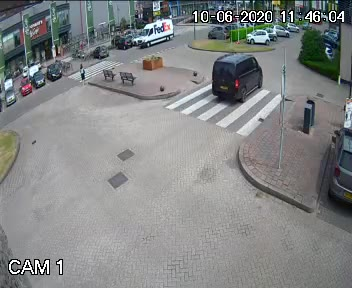car: (205, 48, 270, 105), (133, 20, 179, 47)
